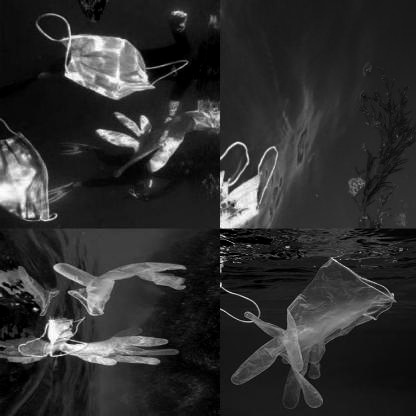Mask: (33, 12, 195, 101), (1, 116, 62, 224), (220, 142, 291, 228), (41, 312, 88, 355)
glove: (229, 257, 398, 411), (95, 103, 218, 182), (47, 255, 190, 318), (77, 325, 182, 368)
